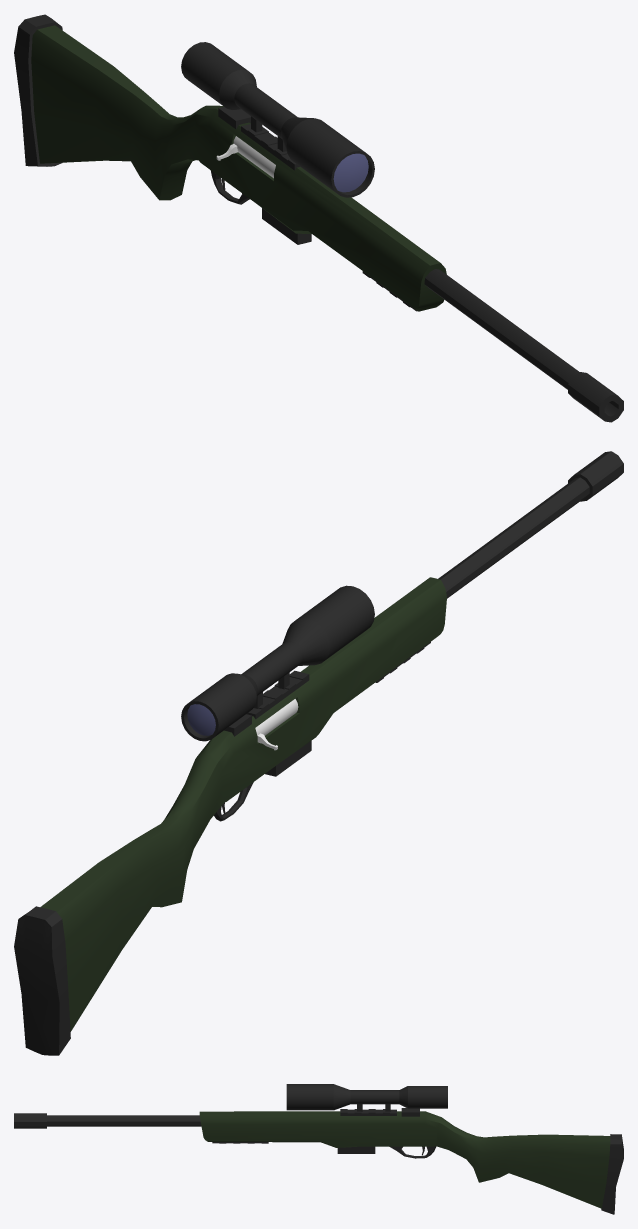
File: SniperRifle.fbx
The picture shows the model from 3 angles, top to bottom: view 1: azimuth 30°, elevation 25°; view 2: azimuth 150°, elevation 25°; view 3: azimuth 270°, elevation 25°; orthographic projection. The views are drawn at different scales.
Parts seen in each view (by area): view 1: WeaponMesh, Scope, Bolt; view 2: WeaponMesh, Scope; view 3: WeaponMesh, Scope, Magazine.
Boxes of the visible parts, x1,y1,x2,y2 form: WeaponMesh: (14,14,623,422); Scope: (181,42,374,197); Bolt: (216,136,275,178); WeaponMesh: (14,451,623,1055); Scope: (181,585,374,741); WeaponMesh: (14,1108,623,1214); Scope: (286,1084,447,1111); Magazine: (337,1146,375,1153).
Size of the model in its own units: 78.81 by 350 by 1523.
